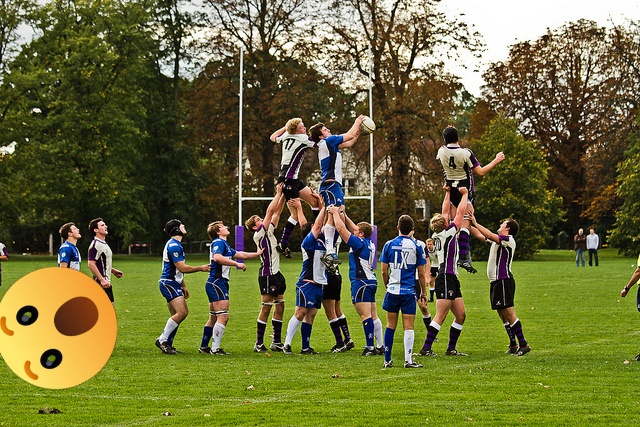wow: (0, 267, 117, 389)
